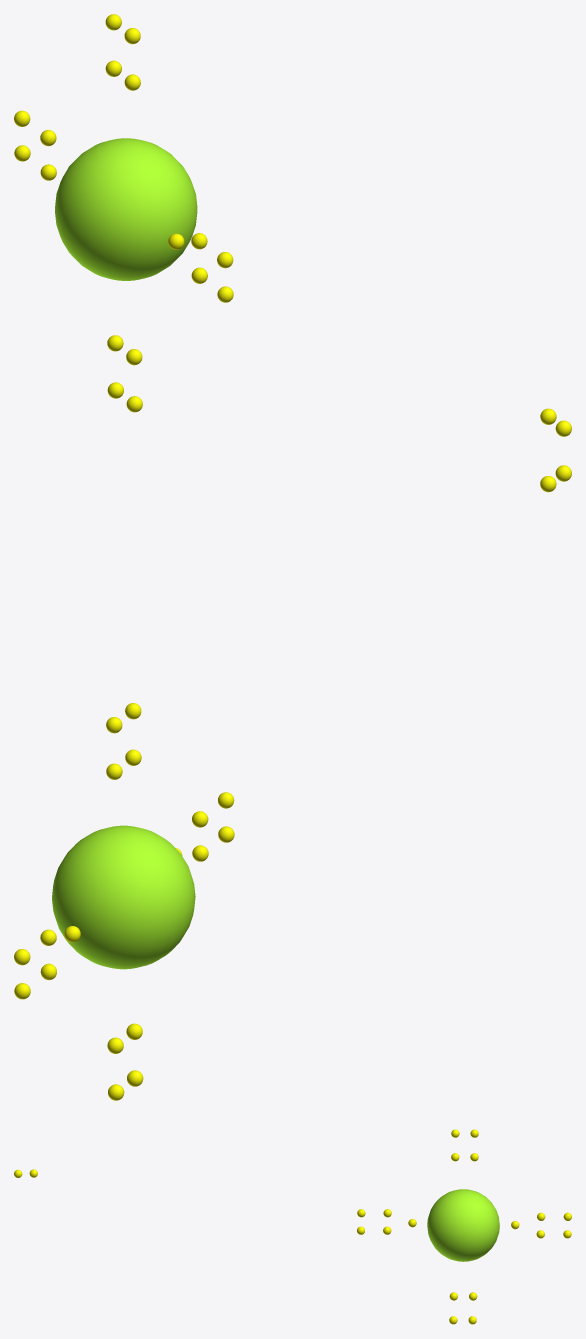
File: Chlorine_negative_Charged.fbx
3 renders of one model, top to bottom at view 1: azimuth 30°, elevation 25°; view 2: azimuth 150°, elevation 25°; view 3: azimuth 270°, elevation 25°, orthographic. The views are drawn at different scales.
Visible parts, largest first — view 1: Sphere; view 2: Sphere; view 3: Sphere.
Boxes of the visible parts, x1,y1,x2,y2 form: Sphere: (55,138,197,280); Sphere: (52,825,195,969); Sphere: (427,1189,499,1261).
Size of the model in its own units: 140 by 412 by 1074.
